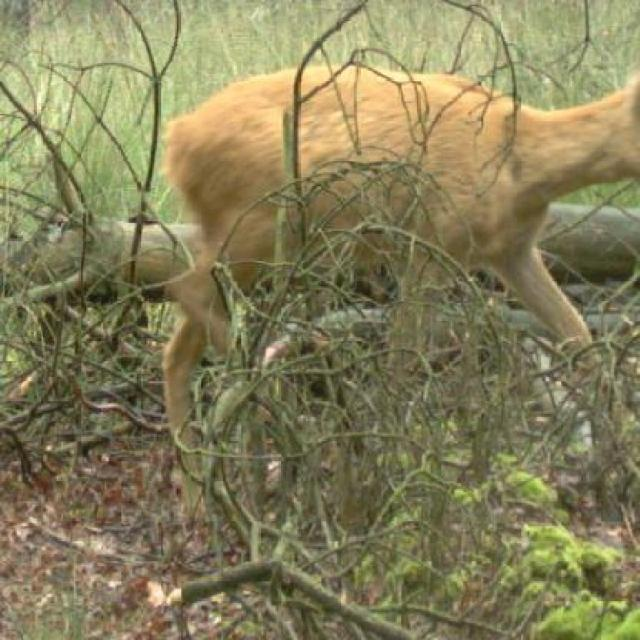Deer: (135, 38, 639, 430)
